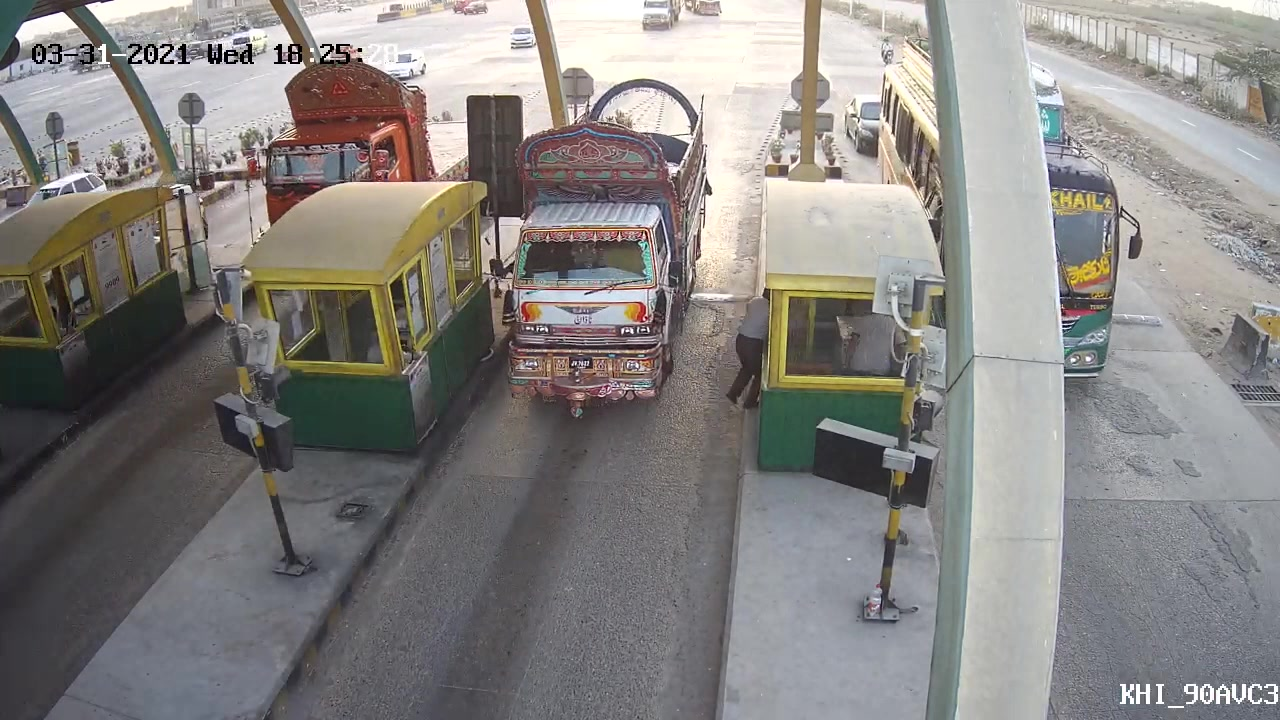F5: (484, 120, 696, 423)
